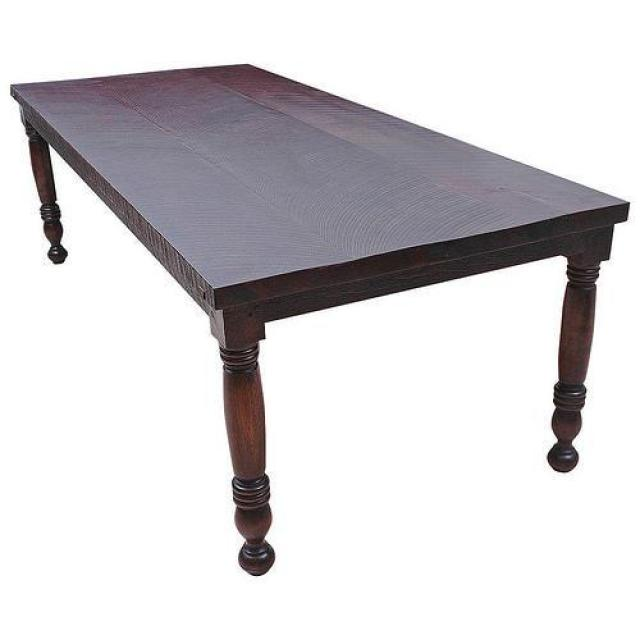table: (10, 64, 632, 577)
